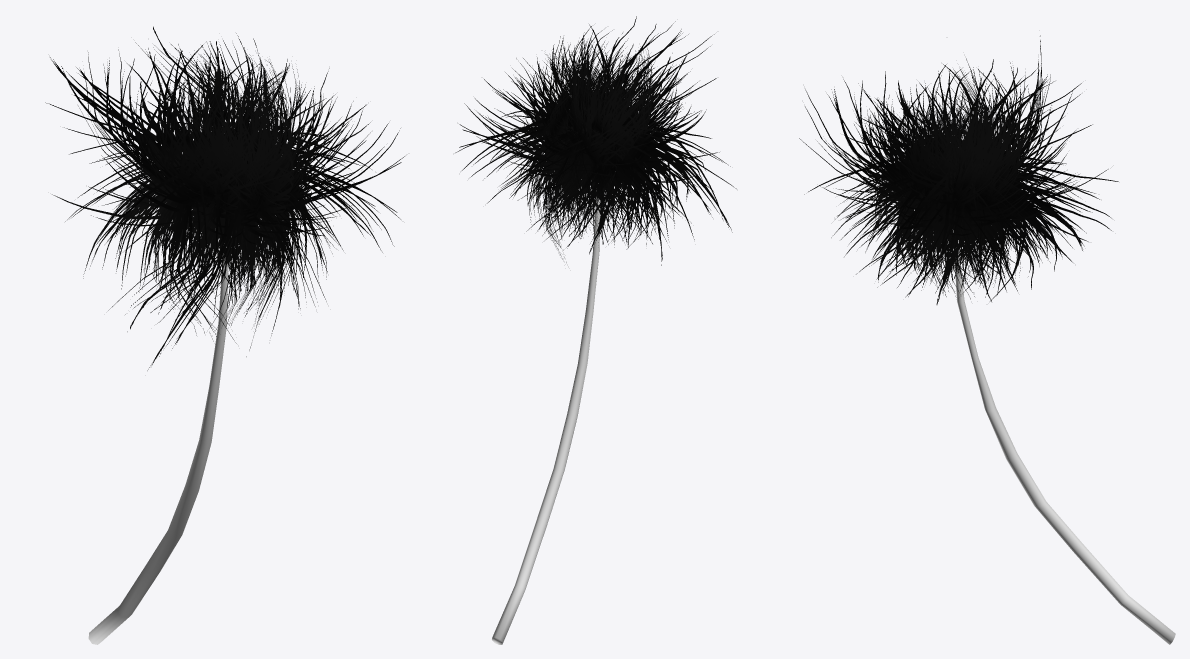
File: WeirdStuffTesting03.fbx
3 views of the same model, side by side, from view 1: azimuth 30°, elevation 25°; view 2: azimuth 150°, elevation 25°; view 3: azimuth 270°, elevation 25° (orthographic). The views are drawn at different scales.
Parts seen in each view (by area): view 1: Plane.006; view 2: Plane.006; view 3: Plane.006.
Part boxes in pixels (x1,y1,x2,y2): Plane.006: [45, 26, 404, 644]; Plane.006: [455, 16, 736, 644]; Plane.006: [799, 35, 1175, 644].
Size of the model in its own units: 98.97 by 209 by 126.
